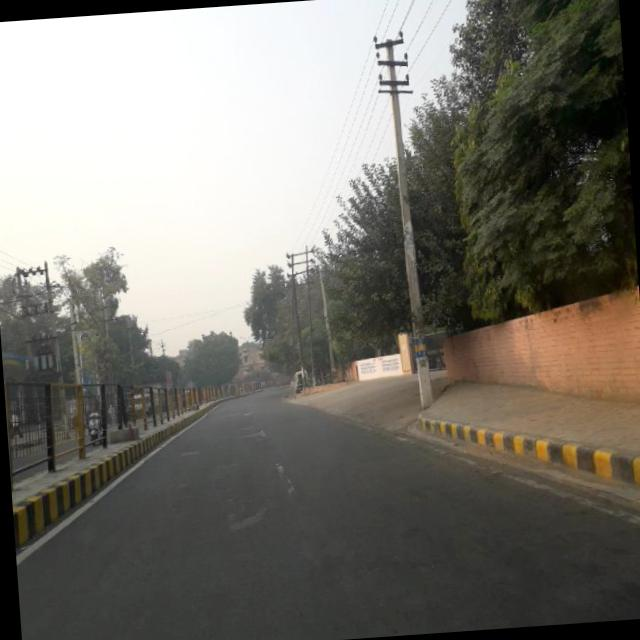pothole: (226, 501, 272, 536)
